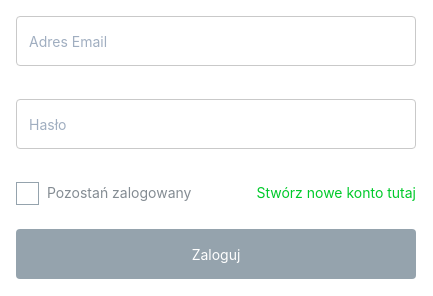
Test: Login › should show checkbox checked on click
Click the element with test id "checkboxWrapper": point(28, 194) [16,182,39,205]
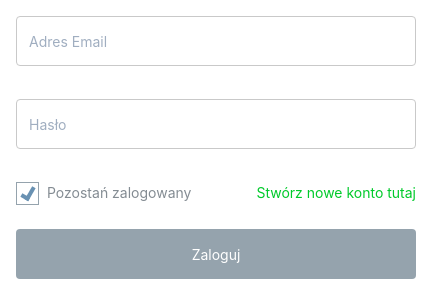
Now the element with test id "checkboxIcon" is shown, box [20,183,35,201]
